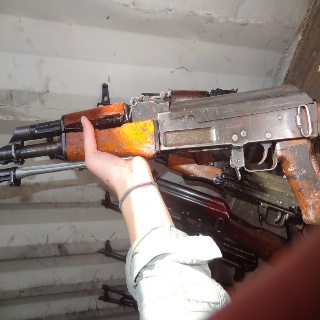rifle: (1, 78, 320, 229)
